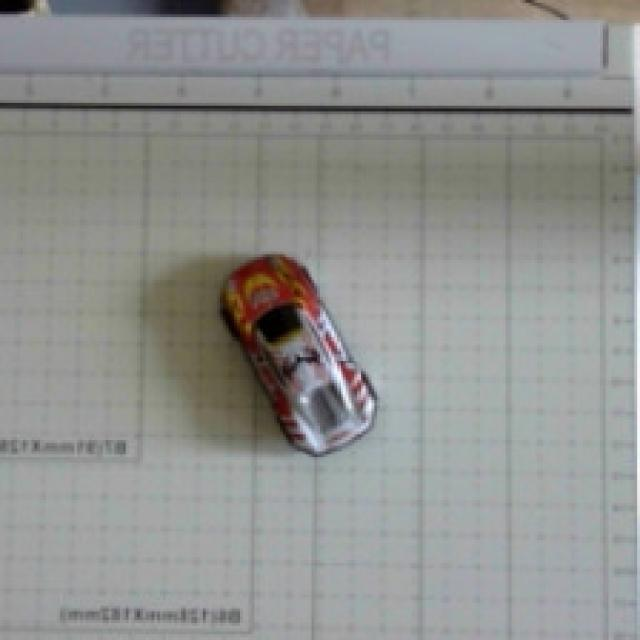Red Car: (173, 224, 436, 501)
